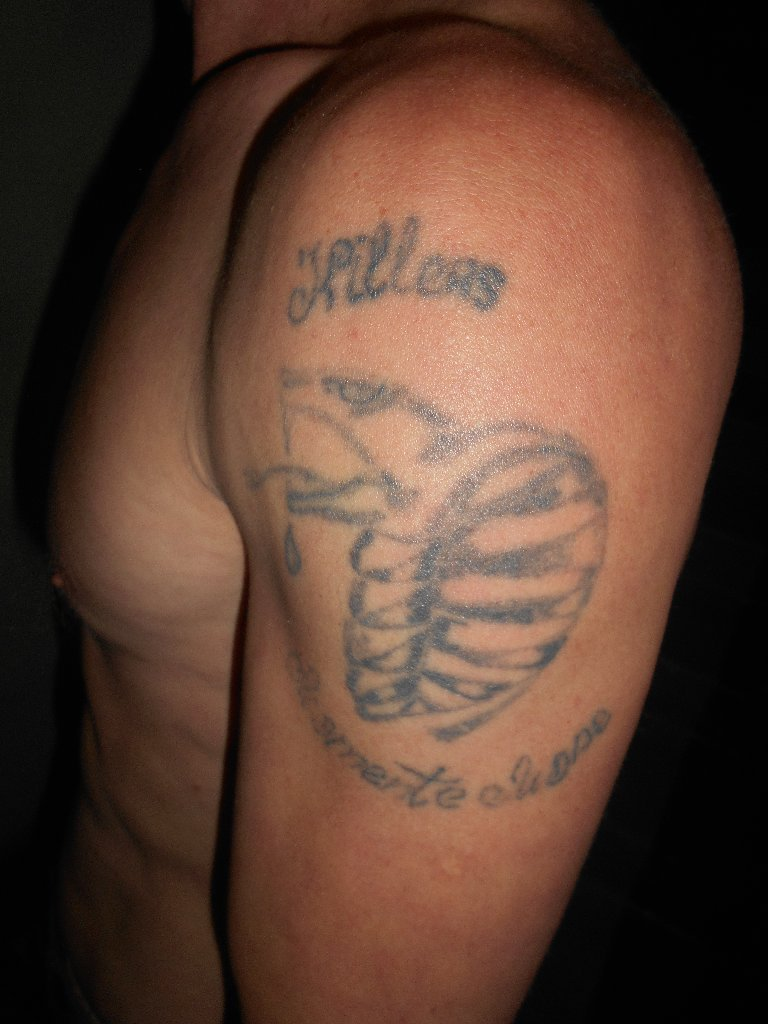tatu3_bukva: (278, 232, 562, 345)
tatu7_zmeya: (281, 356, 623, 754)
